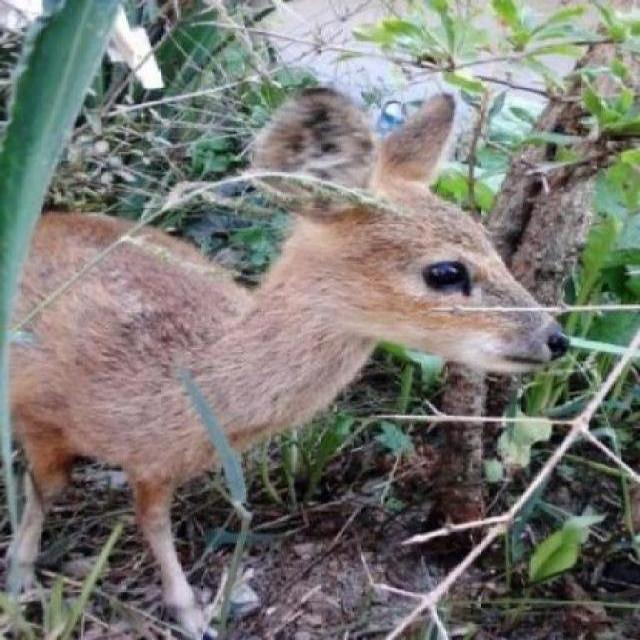deer: (10, 85, 592, 507)
